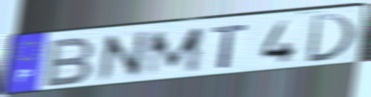4: (259, 19, 298, 64)
B: (42, 35, 98, 89)
D: (304, 12, 358, 64)
M: (143, 25, 206, 79)
N: (96, 28, 150, 84)
T: (211, 22, 251, 70)
